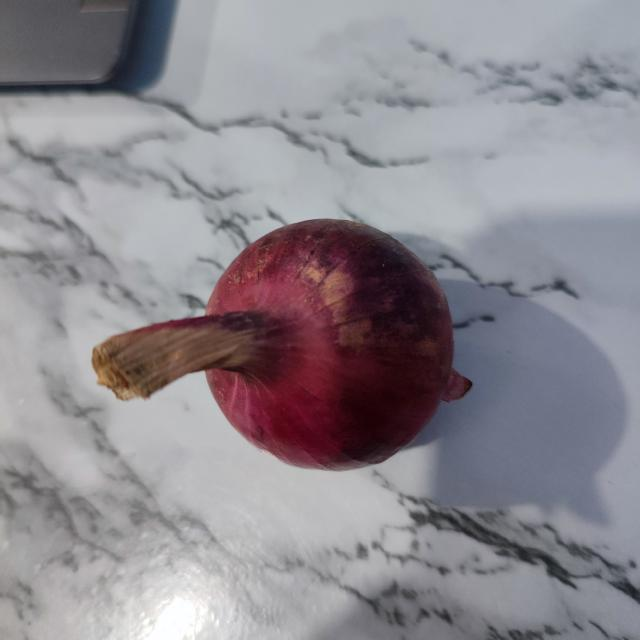Onion: (92, 219, 473, 470)
